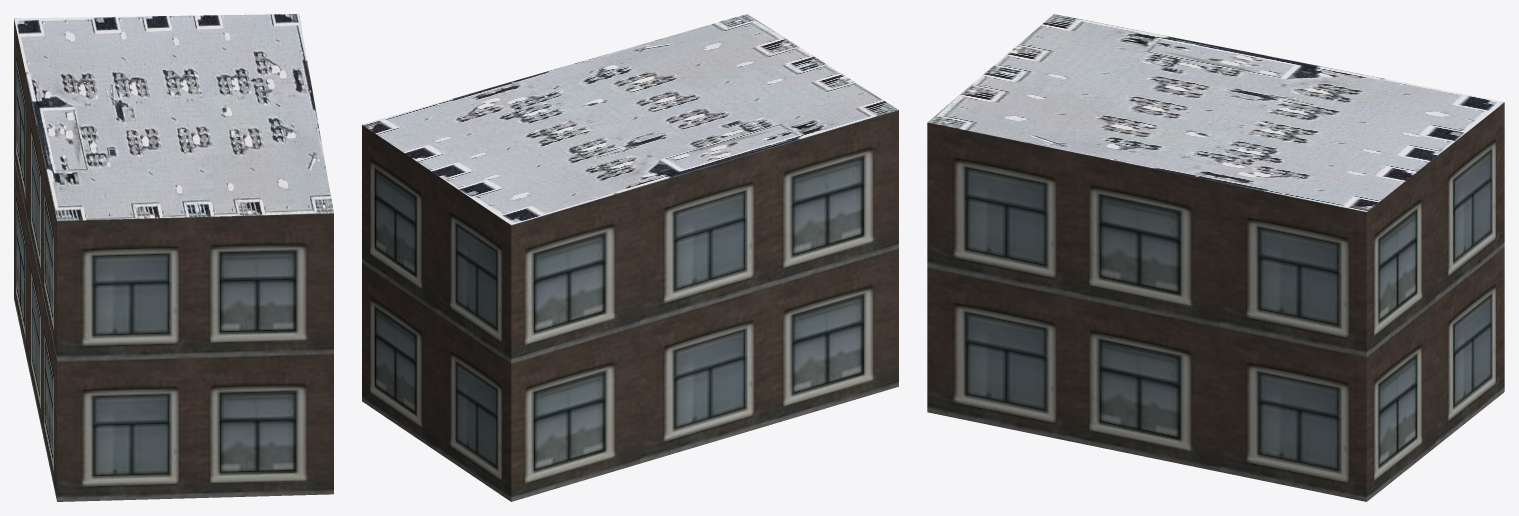
The model's file is ResTex__5175.fbx.
3 renders of one model, left to right at view 1: azimuth 30°, elevation 25°; view 2: azimuth 150°, elevation 25°; view 3: azimuth 270°, elevation 25°, orthographic. The views are drawn at different scales.
Parts seen in each view (by area): view 1: CityEngineMaterial_16_m, CityEngineMaterial_15_m; view 2: CityEngineMaterial_16_m, CityEngineMaterial_15_m; view 3: CityEngineMaterial_16_m, CityEngineMaterial_15_m.
Boxes of the visible parts, left/top/right/bottom form: CityEngineMaterial_16_m: left=14, top=19, right=333, bottom=501; CityEngineMaterial_15_m: left=14, top=14, right=333, bottom=220; CityEngineMaterial_16_m: left=362, top=110, right=898, bottom=501; CityEngineMaterial_15_m: left=362, top=14, right=898, bottom=225; CityEngineMaterial_16_m: left=927, top=102, right=1504, bottom=501; CityEngineMaterial_15_m: left=927, top=14, right=1504, bottom=211.
Size of the model in its own units: 8.8 by 6 by 10.83.
2 materials, 2 textured.
